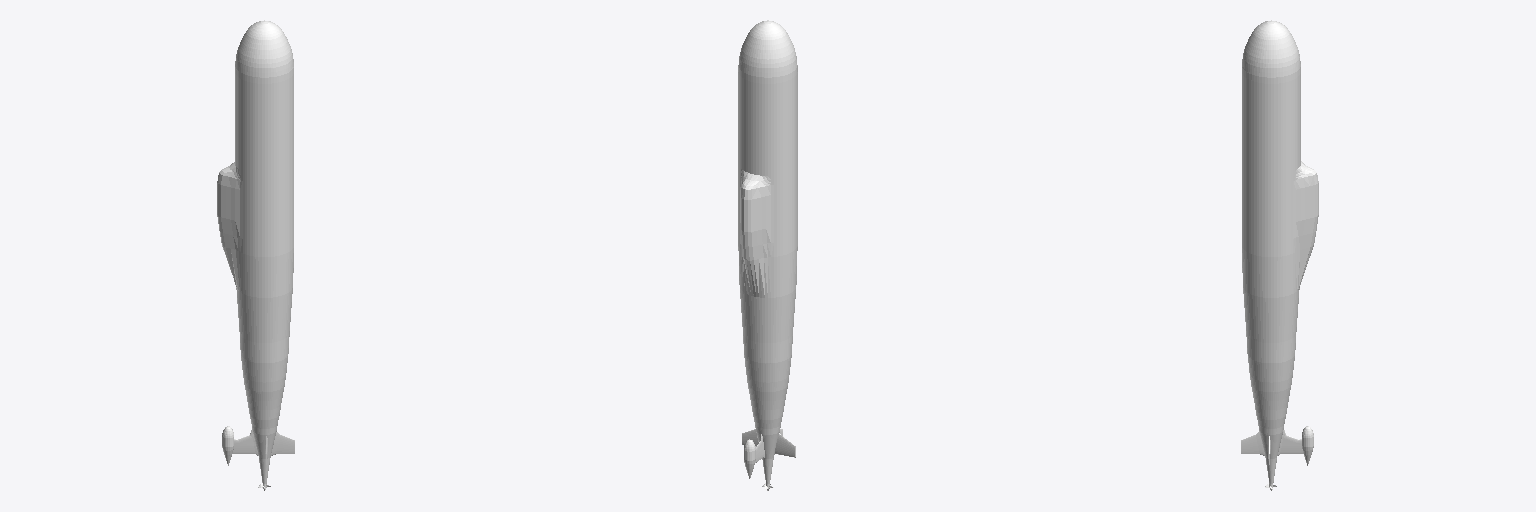
URDF robot description (AkulaClassAtackSubmarine_output.urdf):
<?xml version="1.0" ?>
<robot name="AkulaClassAtackSubmarine_output.urdf">
  <link name="baseLink">
    <inertial>
	  <origin rpy="0 0 0" xyz="0 0 0"/>
	  <mass value="1.0"/>  <!-- Adjust the mass to an appropriate value -->
	  <inertia ixx="1.0" ixy="0" ixz="0" iyy="1.0" iyz="0" izz="1.0"/>  <!-- Adjust the inertia tensor -->
	</inertial>
    <visual>
      <origin rpy="0 0 0" xyz="0 0 0"/>
      <geometry>
        <mesh filename="AkulaClassAtackSubmarine_output.obj" scale="1.0 1.0 1.0"/>
      </geometry>
      <material name="white">
       <color rgba="1 1 1 1"/>
     </material>
    </visual>
    <collision>
      <origin rpy="0 0 0" xyz="0 0 0"/>
      <geometry>
        <mesh filename="AkulaClassAtackSubmarine_output.obj" scale="1.0 1.0 1.0"/>
        <!-- You could also specify the collision (for the AkulaClassAtackSubmarine_output) with a "box" tag: -->
        <!-- <box size=".06 .06 .06"/> -->
      </geometry>
    </collision>
  </link>
</robot>
        

--- What the picture shows (computed from the rendered views, not written in the file) ---
The picture shows the robot from 3 angles, left to right: view 1: azimuth 90°, elevation 25°; view 2: azimuth 150°, elevation 25°; view 3: azimuth 270°, elevation 25°; orthographic projection.
Robot: AkulaClassAtackSubmarine_output.urdf — 1 links, 0 joints (none); root link baseLink; default pose: every joint at zero.
Visible links, largest first — view 1: baseLink; view 2: baseLink; view 3: baseLink.
Link boxes in pixels (bbox=[...]): baseLink: bbox=[217, 20, 294, 490]; baseLink: bbox=[738, 20, 797, 490]; baseLink: bbox=[1241, 20, 1318, 490].
Bounding box of the posed robot: 2.78 × 3.51 × 23.42 m (x, y, z).
1 mesh visuals loaded from 1 distinct referenced files (1 OBJ).
